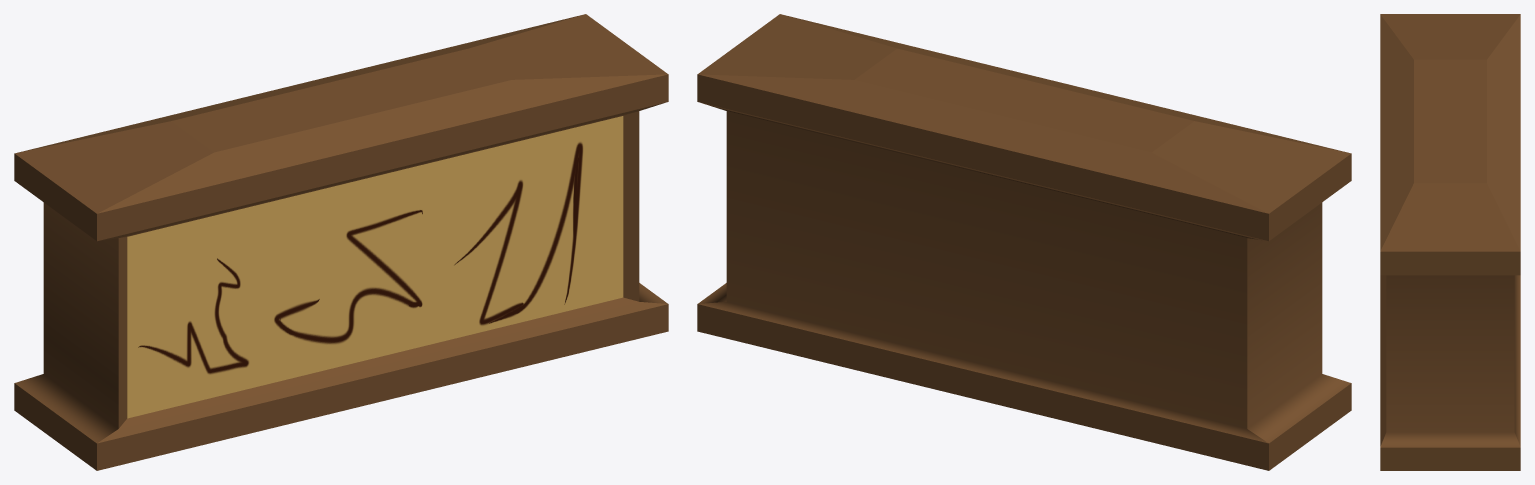
Rendered from Okay Seal.fbx.
3 renders of one model, left to right at view 1: azimuth 30°, elevation 25°; view 2: azimuth 150°, elevation 25°; view 3: azimuth 270°, elevation 25°, orthographic. The views are drawn at different scales.
Visible parts, largest first — view 1: pCube1; view 2: pCube1; view 3: pCube1.
Part boxes in pixels (bbox=[...]): pCube1: bbox=[14, 14, 668, 470]; pCube1: bbox=[697, 14, 1351, 470]; pCube1: bbox=[1380, 14, 1520, 470].
Bounding box in the file's own units: 21.95 × 10.42 × 5.49.
2 materials, 2 textured.
